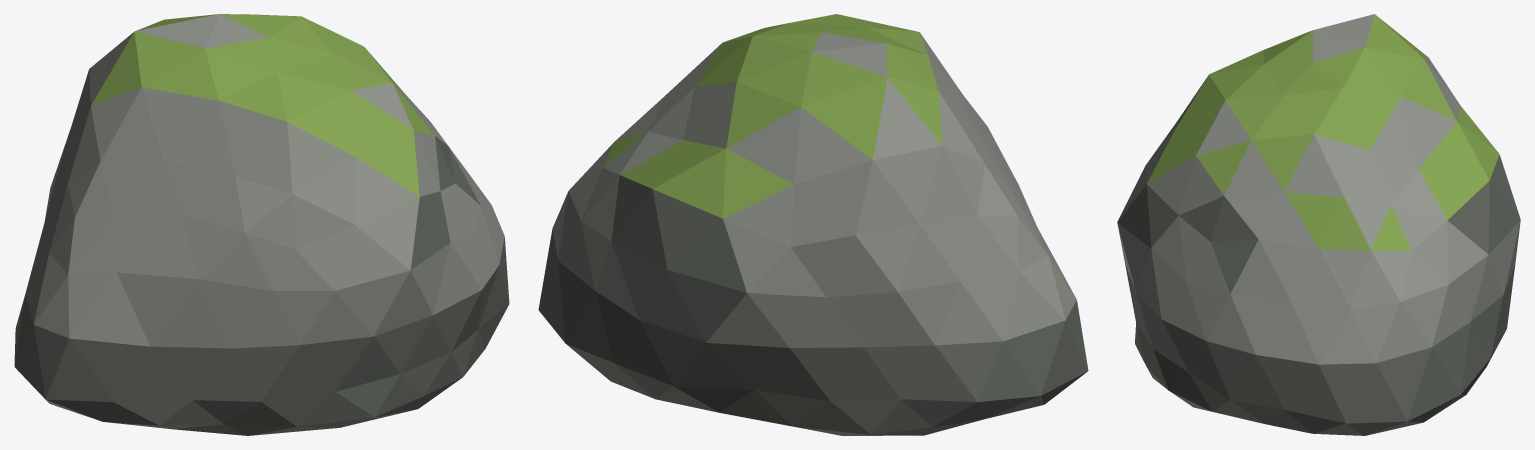
The model's file is Rock_Medium.fbx.
3 renders of one model, left to right at view 1: azimuth 30°, elevation 25°; view 2: azimuth 150°, elevation 25°; view 3: azimuth 270°, elevation 25°, orthographic. The views are drawn at different scales.
Parts seen in each view (by area): view 1: Rock_Medium.001; view 2: Rock_Medium.001; view 3: Rock_Medium.001.
Boxes of the visible parts, x1,y1,x2,y2 form: Rock_Medium.001: [14, 14, 509, 435]; Rock_Medium.001: [538, 14, 1088, 435]; Rock_Medium.001: [1117, 14, 1520, 435].
Bounding box in the file's own units: 1.71 × 1.15 × 1.36.
